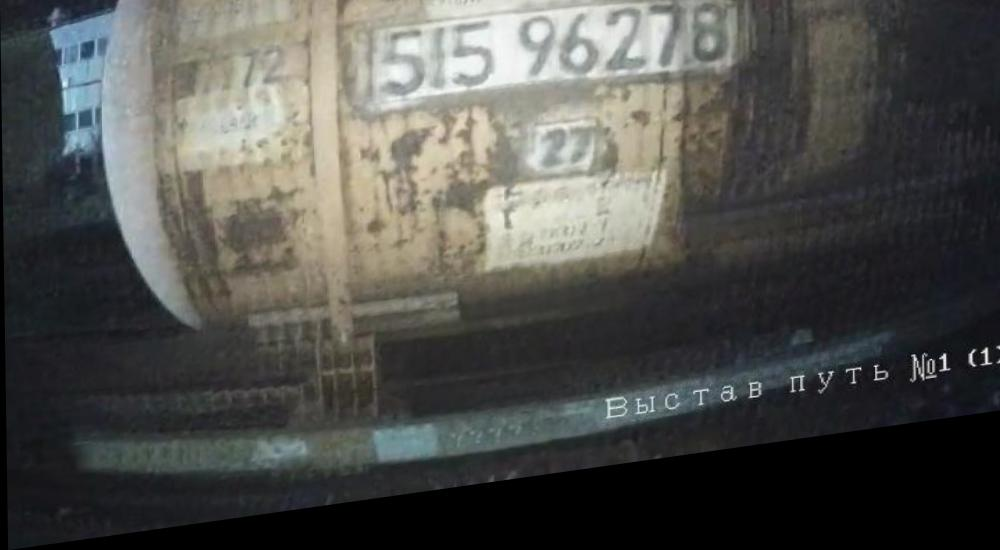Wagon-number: (371, 0, 733, 131)
